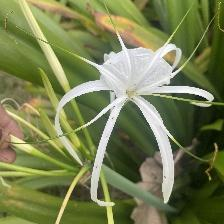spider lily: (82, 35, 193, 169)
